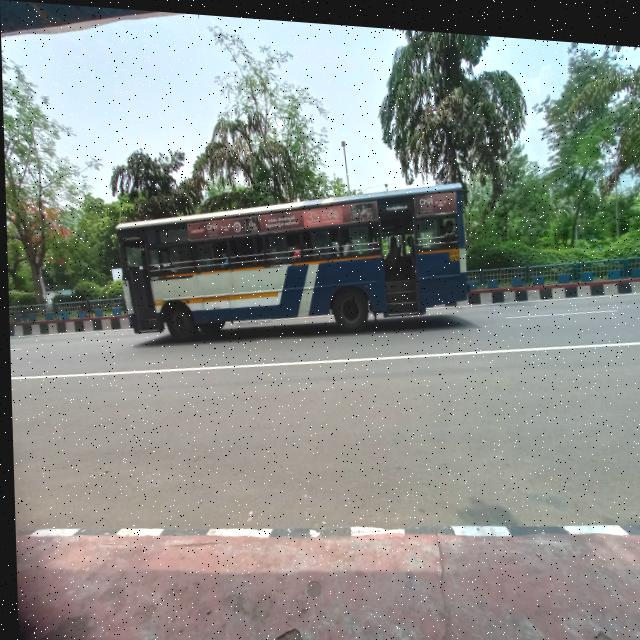bus: (111, 144, 474, 376)
